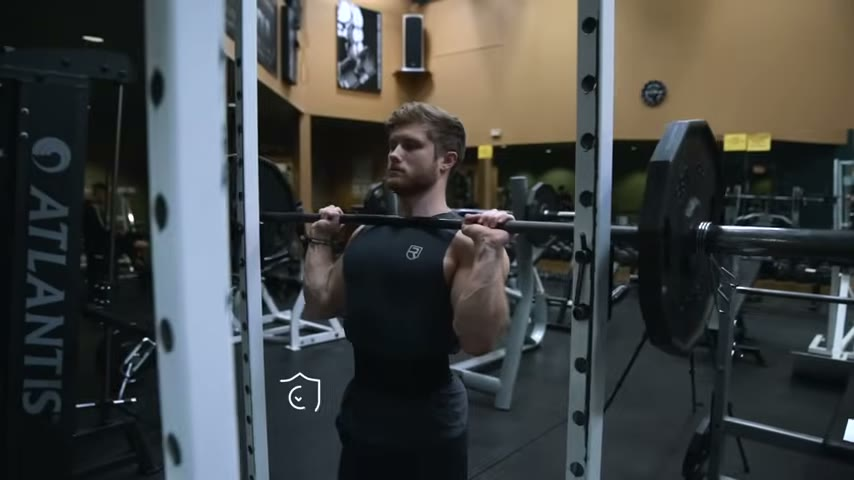barbell_plate_side: (611, 116, 743, 397)
